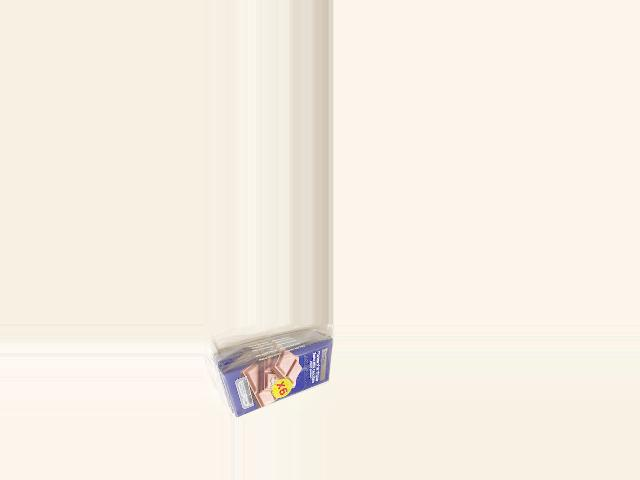chocolate: (221, 331, 333, 418)
